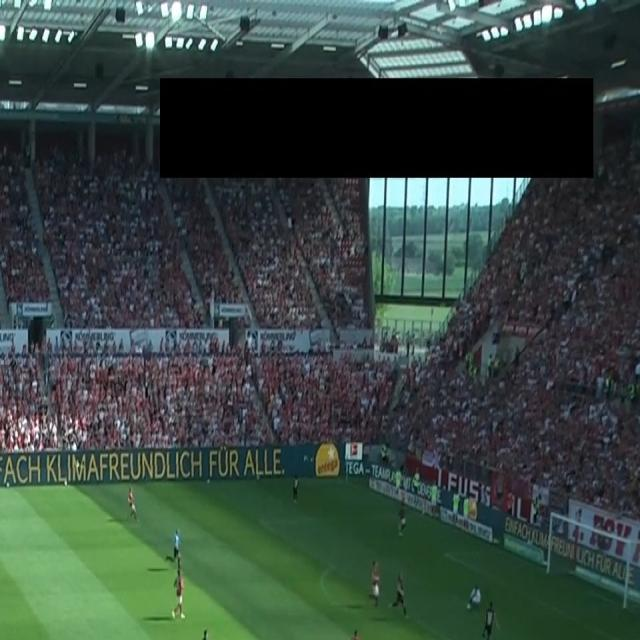ball: (466, 602, 471, 610)
